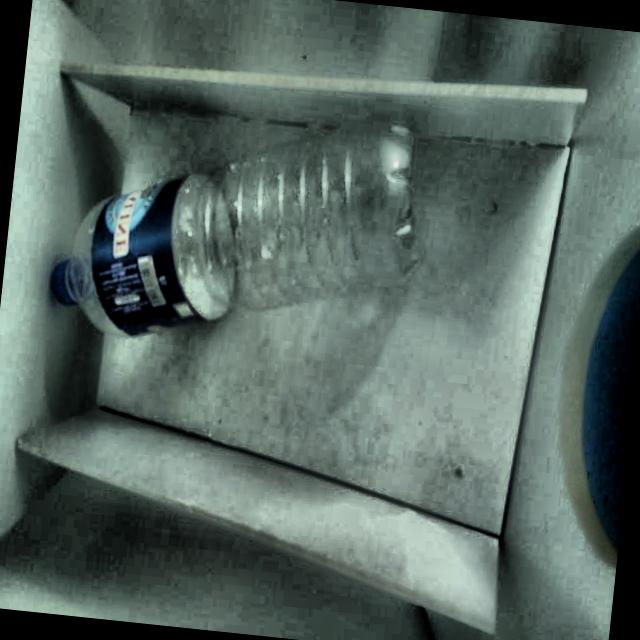plastic bottle: (51, 134, 412, 336)
